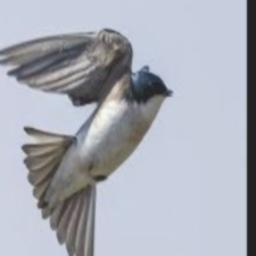Swallow: (0, 29, 173, 256)
